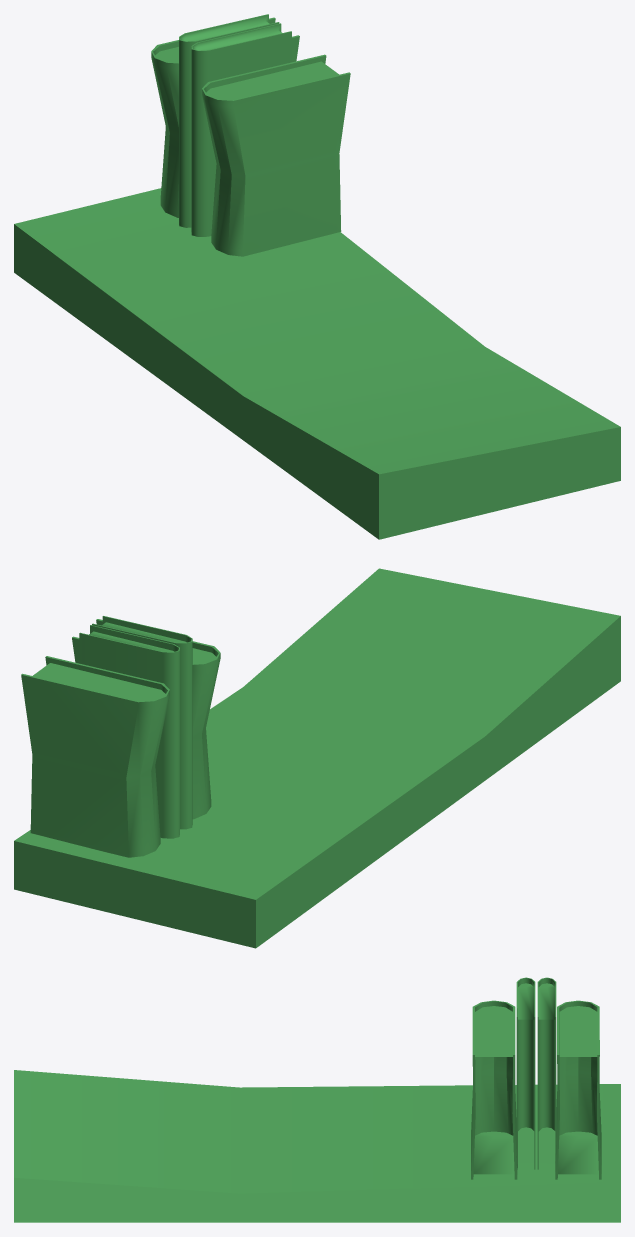
Rendered from Lamparita.fbx.
3 views of the same model, one above another, from view 1: azimuth 30°, elevation 25°; view 2: azimuth 150°, elevation 25°; view 3: azimuth 270°, elevation 25° (orthographic). The views are drawn at different scales.
Parts seen in each view (by area): view 1: polySurface24; view 2: polySurface24; view 3: polySurface24.
Part boxes in pixels (left/top/right/bottom): polySurface24: left=14, top=14, right=620, bottom=539; polySurface24: left=14, top=568, right=620, bottom=948; polySurface24: left=14, top=977, right=620, bottom=1222.
Bounding box in the file's own units: 53.19 × 48.36 × 136.
